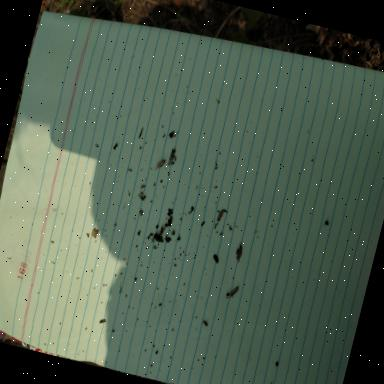pbw: (226, 284, 239, 300), (154, 157, 166, 171), (216, 208, 224, 222)
